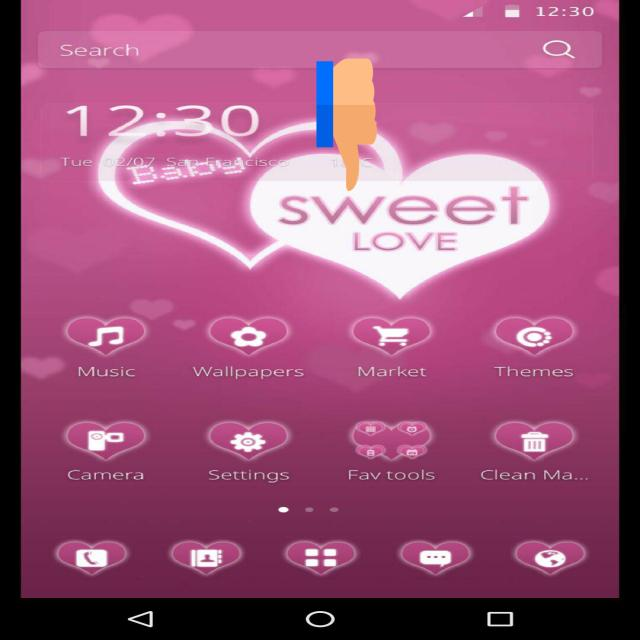obstruction: (316, 56, 377, 194)
